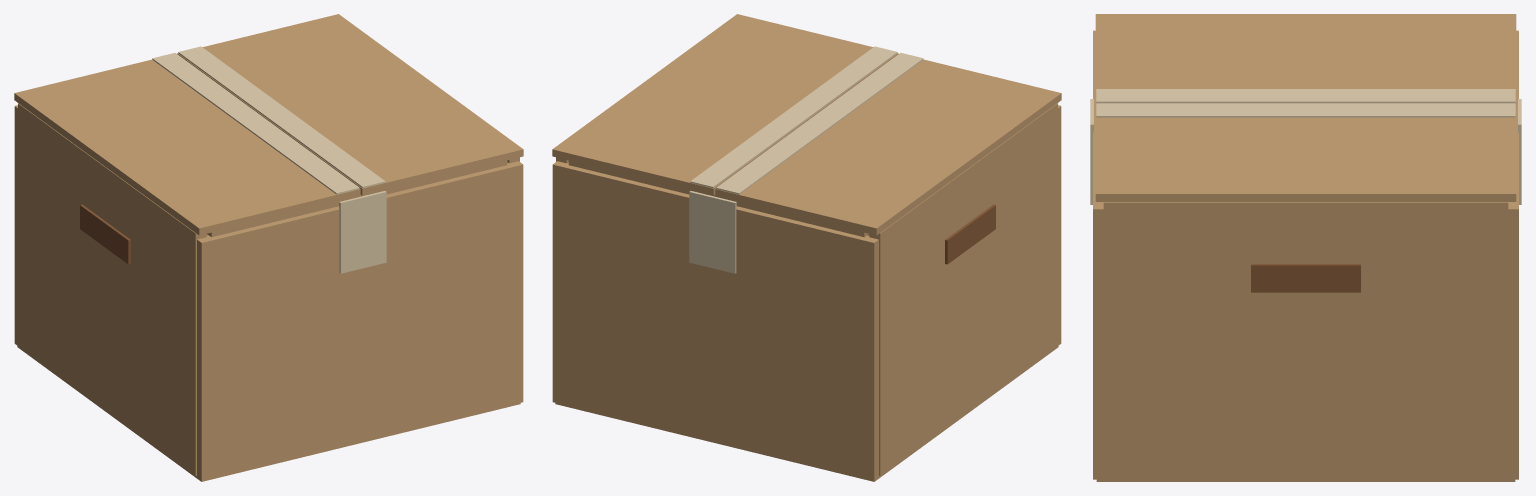
The model's file is CleanACat_Prop_DeliveryBox.fbx.
The picture shows the model from 3 angles, left to right: view 1: azimuth 30°, elevation 25°; view 2: azimuth 150°, elevation 25°; view 3: azimuth 270°, elevation 25°; orthographic projection. The views are drawn at different scales.
Parts seen in each view (by area): view 1: CleanACat_Prop_DeliveryBox_Body, CleanACat_Prop_DeliveryBox_FlapR, CleanACat_Prop_DeliveryBox_FlapL, CleanACat_Prop_DeliveryBox_FlapF; view 2: CleanACat_Prop_DeliveryBox_Body, CleanACat_Prop_DeliveryBox_FlapR, CleanACat_Prop_DeliveryBox_FlapL, CleanACat_Prop_DeliveryBox_FlapB; view 3: CleanACat_Prop_DeliveryBox_Body, CleanACat_Prop_DeliveryBox_FlapL, CleanACat_Prop_DeliveryBox_FlapR.
Boxes of the visible parts, x1,y1,x2,y2 form: CleanACat_Prop_DeliveryBox_Body: (14, 103, 523, 481); CleanACat_Prop_DeliveryBox_FlapR: (14, 53, 360, 235); CleanACat_Prop_DeliveryBox_FlapL: (177, 14, 523, 195); CleanACat_Prop_DeliveryBox_FlapF: (207, 160, 507, 237); CleanACat_Prop_DeliveryBox_Body: (552, 103, 1061, 481); CleanACat_Prop_DeliveryBox_FlapR: (715, 53, 1061, 235); CleanACat_Prop_DeliveryBox_FlapL: (552, 14, 898, 195); CleanACat_Prop_DeliveryBox_FlapB: (568, 160, 868, 237); CleanACat_Prop_DeliveryBox_Body: (1090, 30, 1521, 481); CleanACat_Prop_DeliveryBox_FlapL: (1095, 103, 1516, 201); CleanACat_Prop_DeliveryBox_FlapR: (1095, 14, 1516, 103).
Bounding box in the file's own units: 2.44 × 1.81 × 2.43.
Materials: 1 (1 with a texture image).
